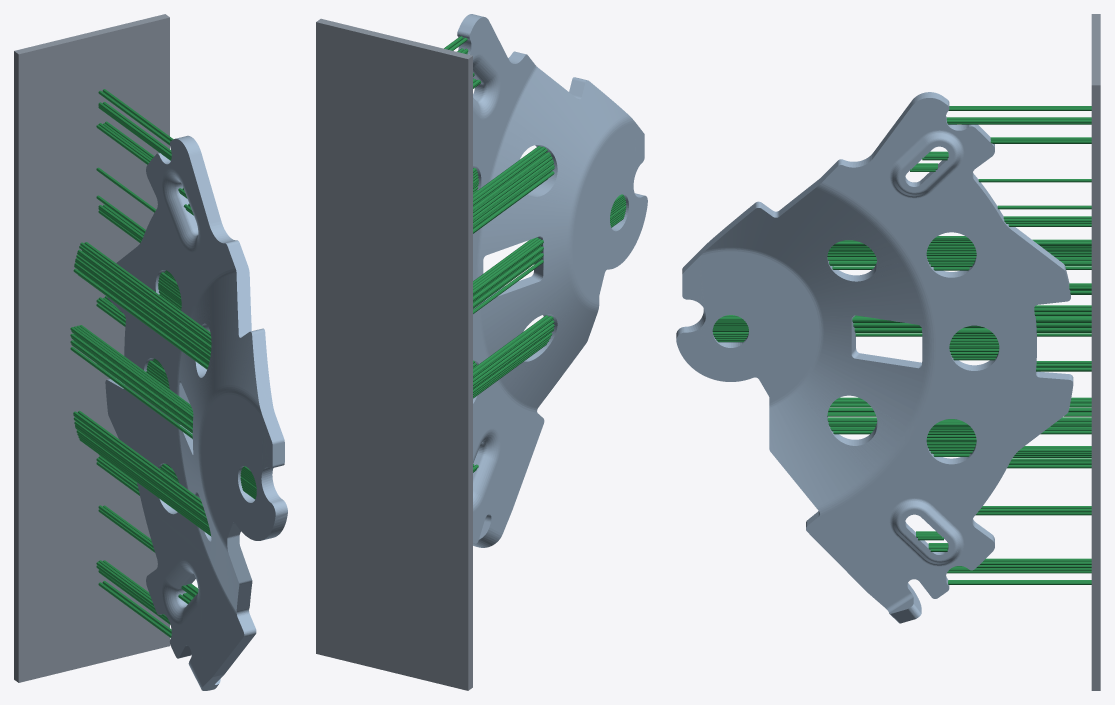
The model's file is part_with_simplified_supports_and_platform.obj.
3 renders of one model, left to right at view 1: azimuth 30°, elevation 25°; view 2: azimuth 150°, elevation 25°; view 3: azimuth 270°, elevation 25°, orthographic. The views are drawn at different scales.
Visible parts, largest first — view 1: BuildPlate, Part, SimplifiedSupportColumns; view 2: BuildPlate, Part, SimplifiedSupportColumns; view 3: Part, SimplifiedSupportColumns, BuildPlate.
Boxes of the visible parts, <box> form: BuildPlate: <box>14,14,169,682</box>; Part: <box>105,135,287,690</box>; SimplifiedSupportColumns: <box>70,89,256,637</box>; BuildPlate: <box>316,18,472,690</box>; Part: <box>457,14,647,547</box>; SimplifiedSupportColumns: <box>444,36,626,472</box>; Part: <box>676,92,1073,623</box>; SimplifiedSupportColumns: <box>712,106,1091,584</box>; BuildPlate: <box>1091,14,1100,690</box>.
Bounding box in the file's own units: 37.01 × 147 × 93.25.
